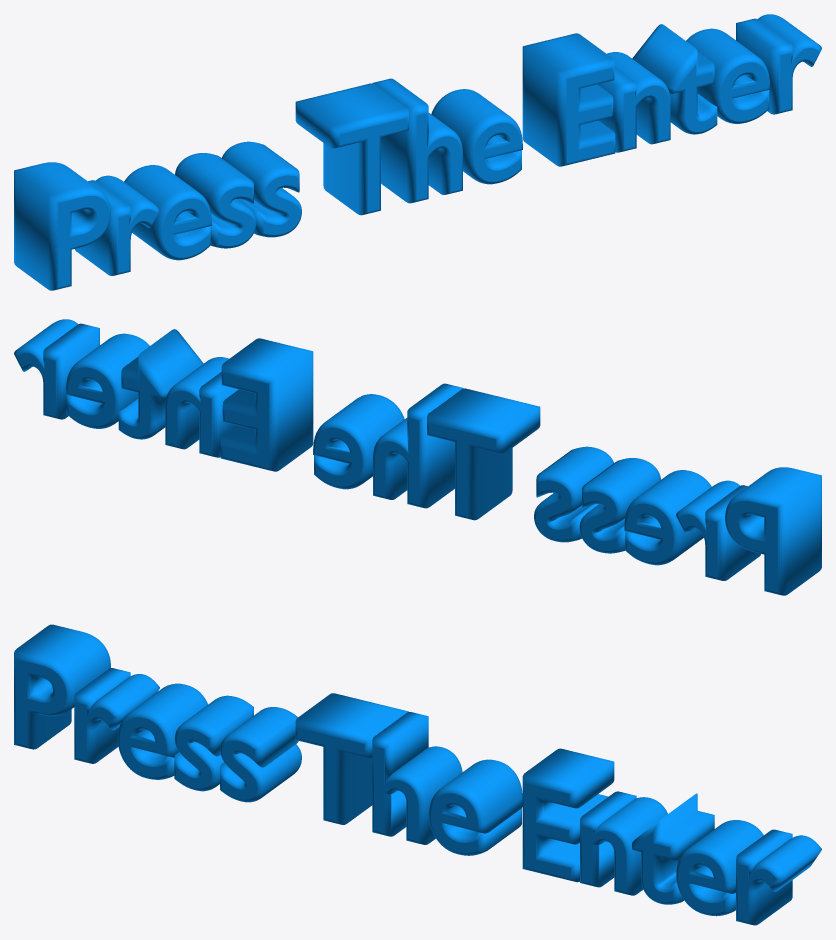
Rendered from presstheenterText.obj.
3 renders of one model, top to bottom at view 1: azimuth 30°, elevation 25°; view 2: azimuth 150°, elevation 25°; view 3: azimuth 330°, elevation 25°, orthographic.
Visible parts, largest first — view 1: テキスト; view 2: テキスト; view 3: テキスト.
Boxes of the visible parts, x1,y1,x2,y2 form: テキスト: (14,14,821,290); テキスト: (14,319,821,595); テキスト: (14,624,821,925).
Bounding box in the file's own units: 3.35 × 0.3959 × 0.32.
1 material, 1 textured.
